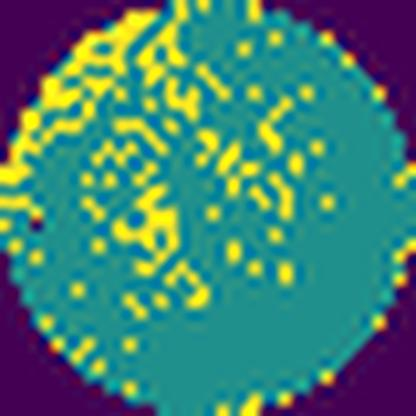Edge-Loc: (0, 3, 165, 190)
